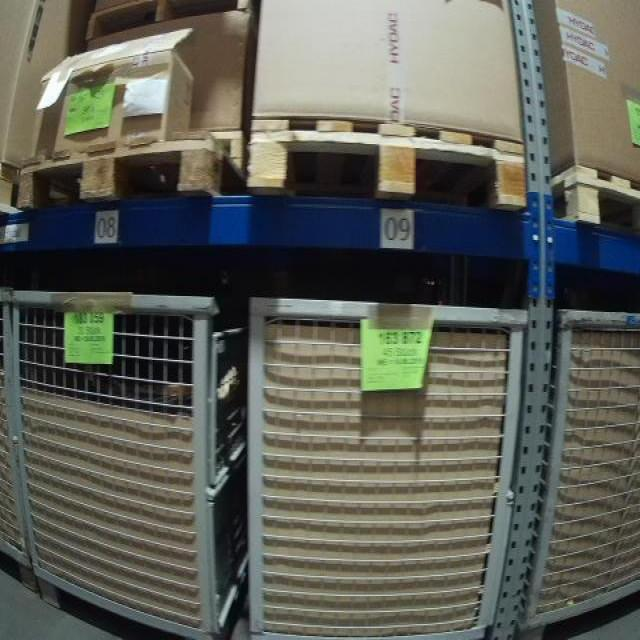pallet: (244, 116, 530, 210), (14, 128, 242, 212), (85, 0, 253, 43), (547, 165, 640, 233)
stillage: (246, 295, 525, 639), (12, 288, 239, 637), (516, 307, 639, 638), (2, 283, 34, 606)
